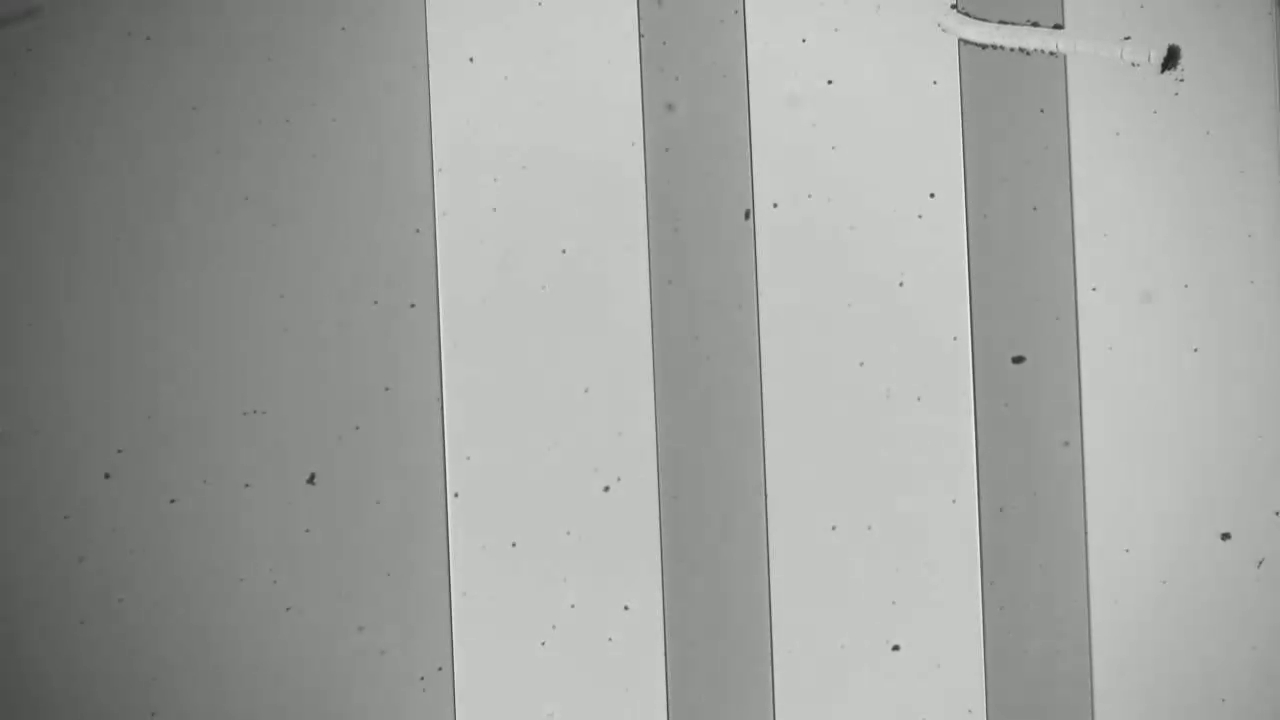Short_circuit: (896, 1, 1134, 89)
